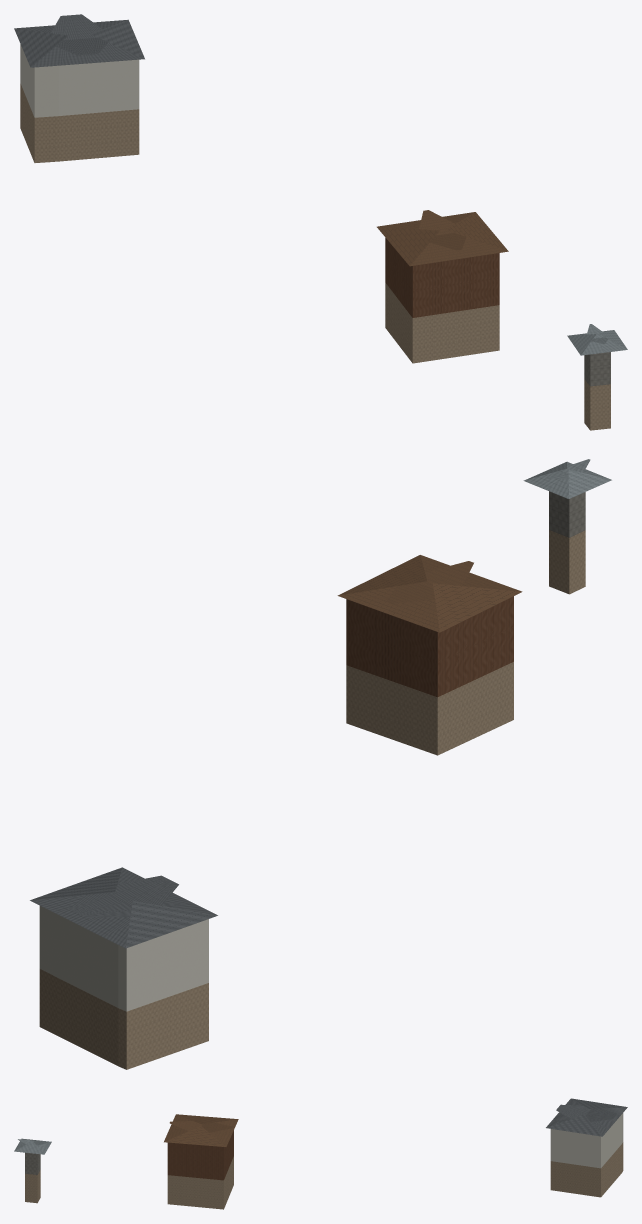
File: bld_c30_-39_469.gltf
3 views of the same model, one above another, from view 1: azimuth 30°, elevation 25°; view 2: azimuth 150°, elevation 25°; view 3: azimuth 270°, elevation 25° (orthographic). The views are drawn at different scales.
Parts seen in each view (by area): view 1: bld_c30_-39_469; view 2: bld_c30_-39_469; view 3: bld_c30_-39_469.
Part boxes in pixels (x1,y1,x2,y2): bld_c30_-39_469: [14, 14, 627, 430]; bld_c30_-39_469: [30, 459, 611, 1069]; bld_c30_-39_469: [14, 1098, 627, 1209].
Bounding box in the file's own units: 20.69 × 13.1 × 97.5.
Materials: 7 (7 with a texture image).
